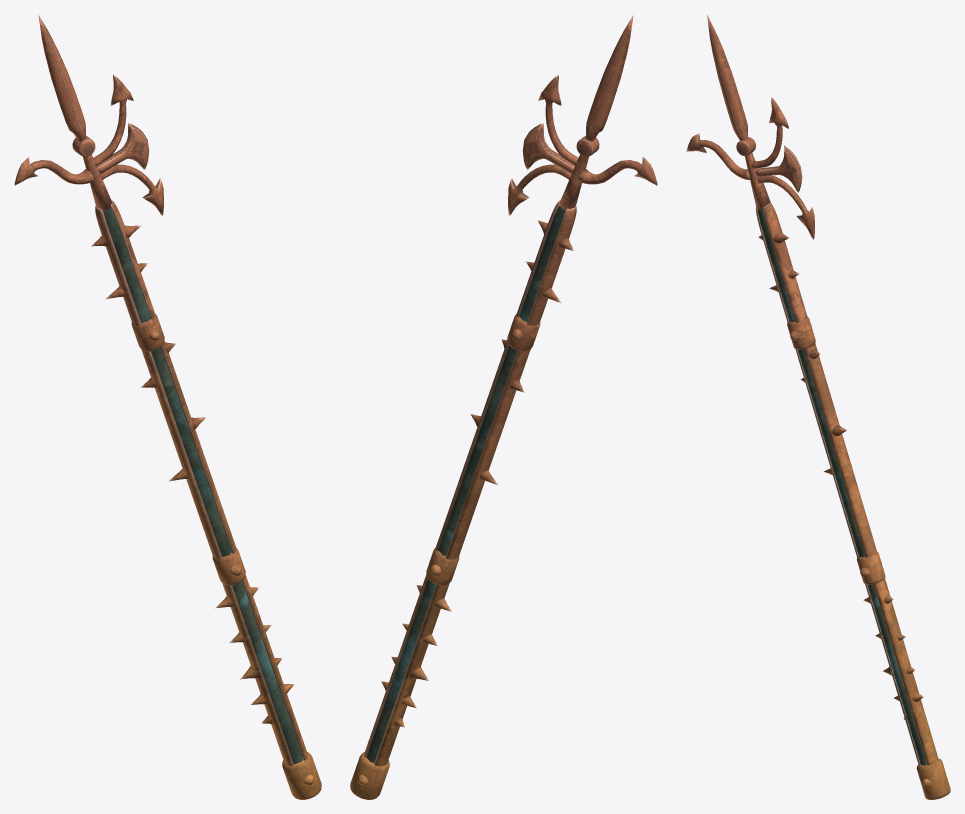
File: hlbrd4.glb
3 renders of one model, left to right at view 1: azimuth 30°, elevation 25°; view 2: azimuth 150°, elevation 25°; view 3: azimuth 330°, elevation 25°, orthographic. The views are drawn at different scales.
Visible parts, largest first — view 1: hlbrd2_common; view 2: hlbrd2_common; view 3: hlbrd2_common.
Boxes of the visible parts, x1,y1,x2,y2 form: hlbrd2_common: (14, 14, 321, 799); hlbrd2_common: (350, 14, 657, 799); hlbrd2_common: (686, 14, 950, 799).
Size of the model in its own units: 26.69 by 70.86 by 2.95.
Materials: 1 (1 with a texture image).
